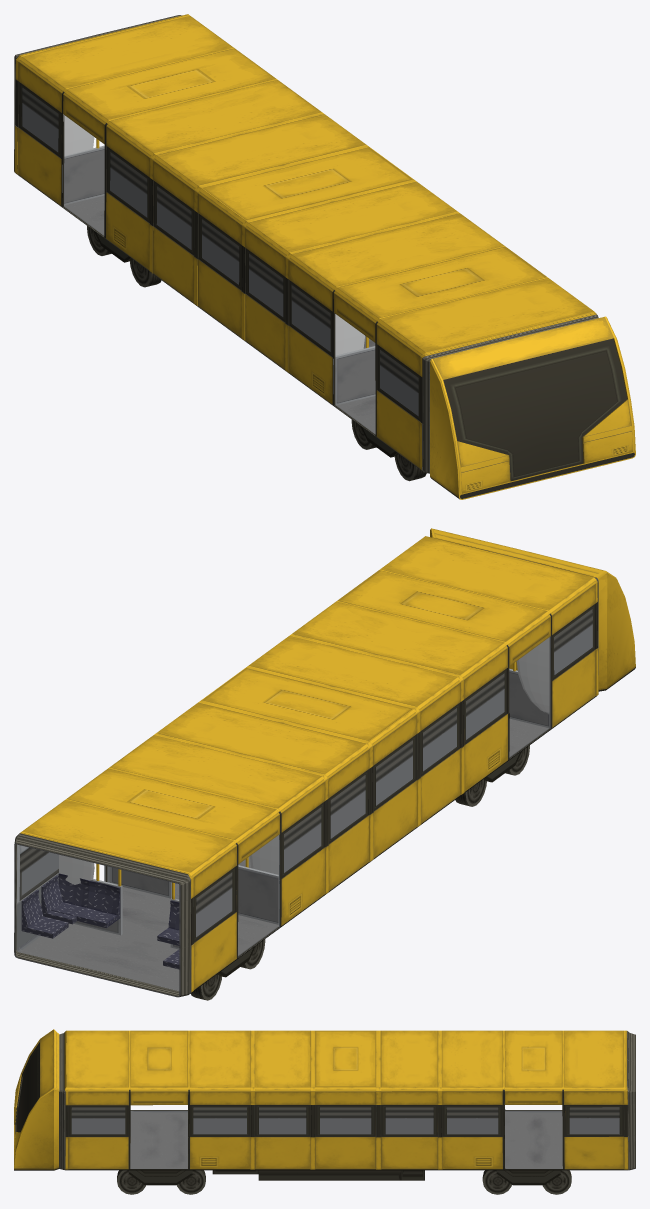
File: Train1.2Scale.fbx
The picture shows the model from 3 angles, top to bottom: view 1: azimuth 30°, elevation 25°; view 2: azimuth 150°, elevation 25°; view 3: azimuth 270°, elevation 25°; orthographic projection. The views are drawn at different scales.
Parts seen in each view (by area): view 1: TrainMiddleCartV1, TrainFront, TrainMiddleCartV2; view 2: TrainMiddleCartV1, TrainMiddleCartV2, TrainFront; view 3: TrainMiddleCartV1, TrainMiddleCartV2, TrainFront.
Boxes of the visible parts, x1,y1,x2,y2 form: TrainMiddleCartV1: [14, 14, 598, 481]; TrainFront: [430, 316, 635, 499]; TrainMiddleCartV2: [15, 15, 597, 469]; TrainMiddleCartV1: [14, 536, 598, 1000]; TrainMiddleCartV2: [15, 547, 598, 998]; TrainFront: [430, 528, 635, 691]; TrainMiddleCartV1: [59, 1030, 635, 1194]; TrainMiddleCartV2: [59, 1031, 635, 1184]; TrainFront: [14, 1029, 59, 1170].
Size of the model in its own units: 391 by 358 by 1722.
